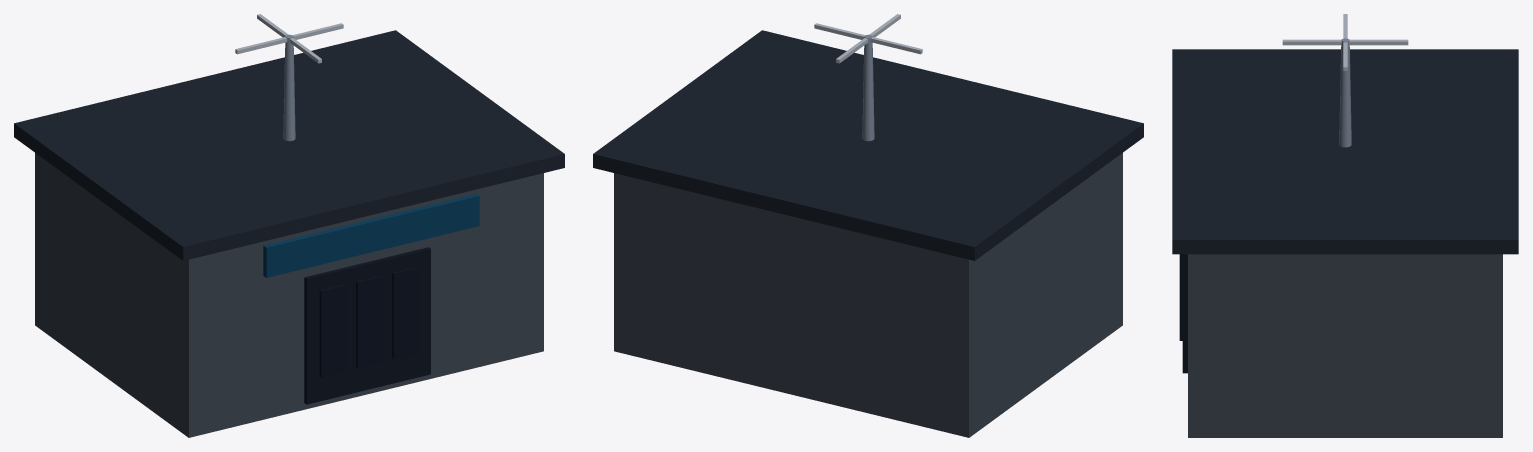
File: yard-telemetry-body.antenna-seated.glb
The picture shows the model from 3 angles, left to right: view 1: azimuth 30°, elevation 25°; view 2: azimuth 150°, elevation 25°; view 3: azimuth 270°, elevation 25°; orthographic projection. The views are drawn at different scales.
Parts seen in each view (by area): view 1: Authored shadows true:false, Authored shadows true:true, Yard-telemetry-bodyBody; view 2: Authored shadows true:true, Authored shadows true:false, Yard-telemetry-bodyBody; view 3: Authored shadows true:false, Authored shadows true:true, Yard-telemetry-bodyBody.
Part boxes in pixels (x1,y1,x2,y2): Authored shadows true:false: (14, 30, 564, 260); Authored shadows true:true: (35, 153, 543, 437); Yard-telemetry-bodyBody: (235, 14, 479, 404); Authored shadows true:true: (614, 153, 1122, 437); Authored shadows true:false: (593, 30, 1143, 260); Yard-telemetry-bodyBody: (814, 14, 922, 141); Authored shadows true:false: (1172, 49, 1518, 254); Authored shadows true:true: (1188, 254, 1502, 437); Yard-telemetry-bodyBody: (1179, 14, 1408, 373).
Bounding box in the file's own units: 8.6 × 6.5 × 6.6.
